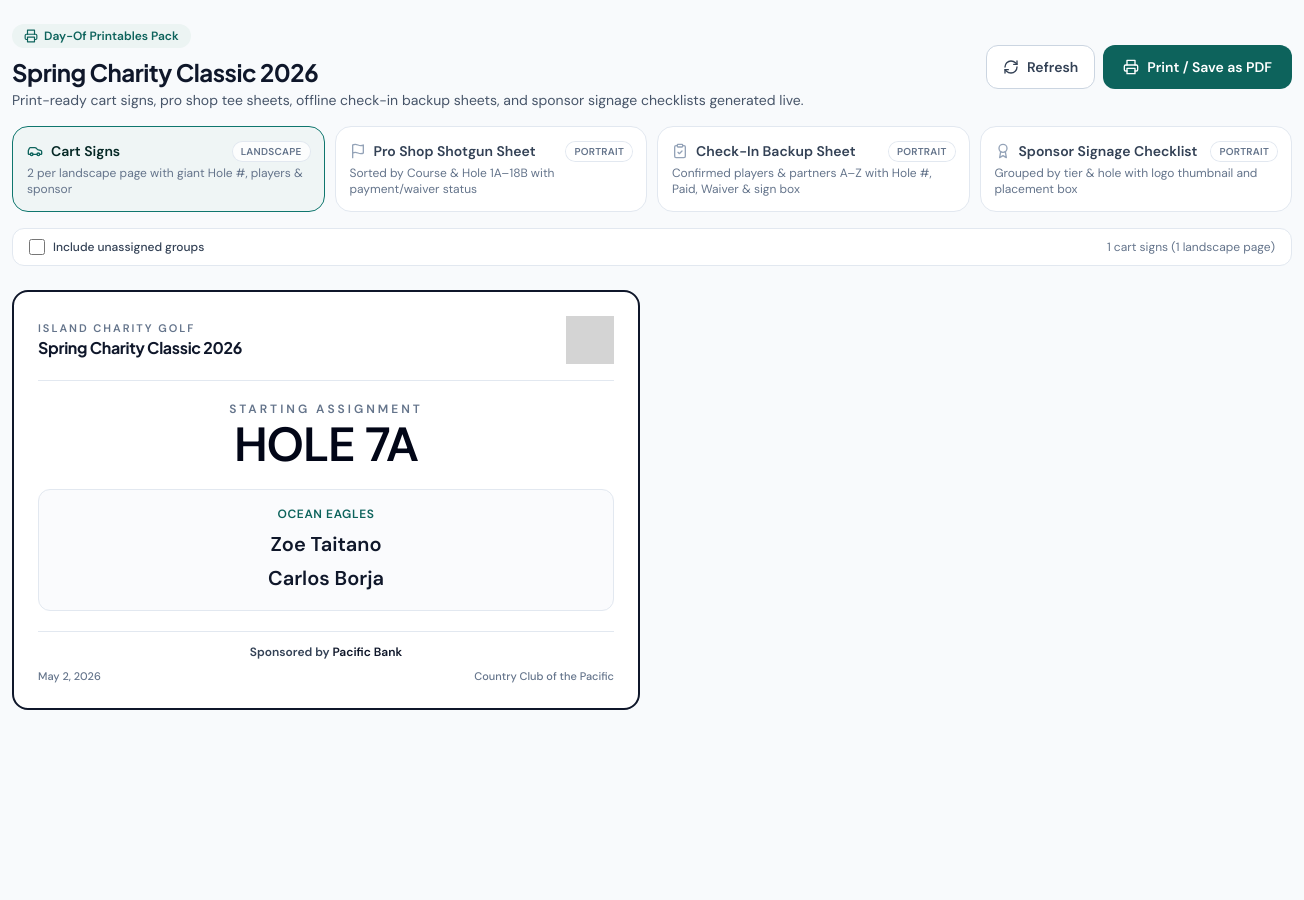
Test: PrintablesPage › fetches exact API routes, renders all 4 printable day-of sheets with accurate waiver status, and invokes window.print()
The image size is (1304, 900).
Later steps or results of the test are not shown.
Check: the element with test id "sheet-cart-signs" is shown, box [12, 290, 640, 710]
Note: Pro Shop Shotgun Sheet
Click the tab that starts with "Pro Shop Shotgun Sheet": {"x": 491, "y": 169} [334, 126, 647, 212]
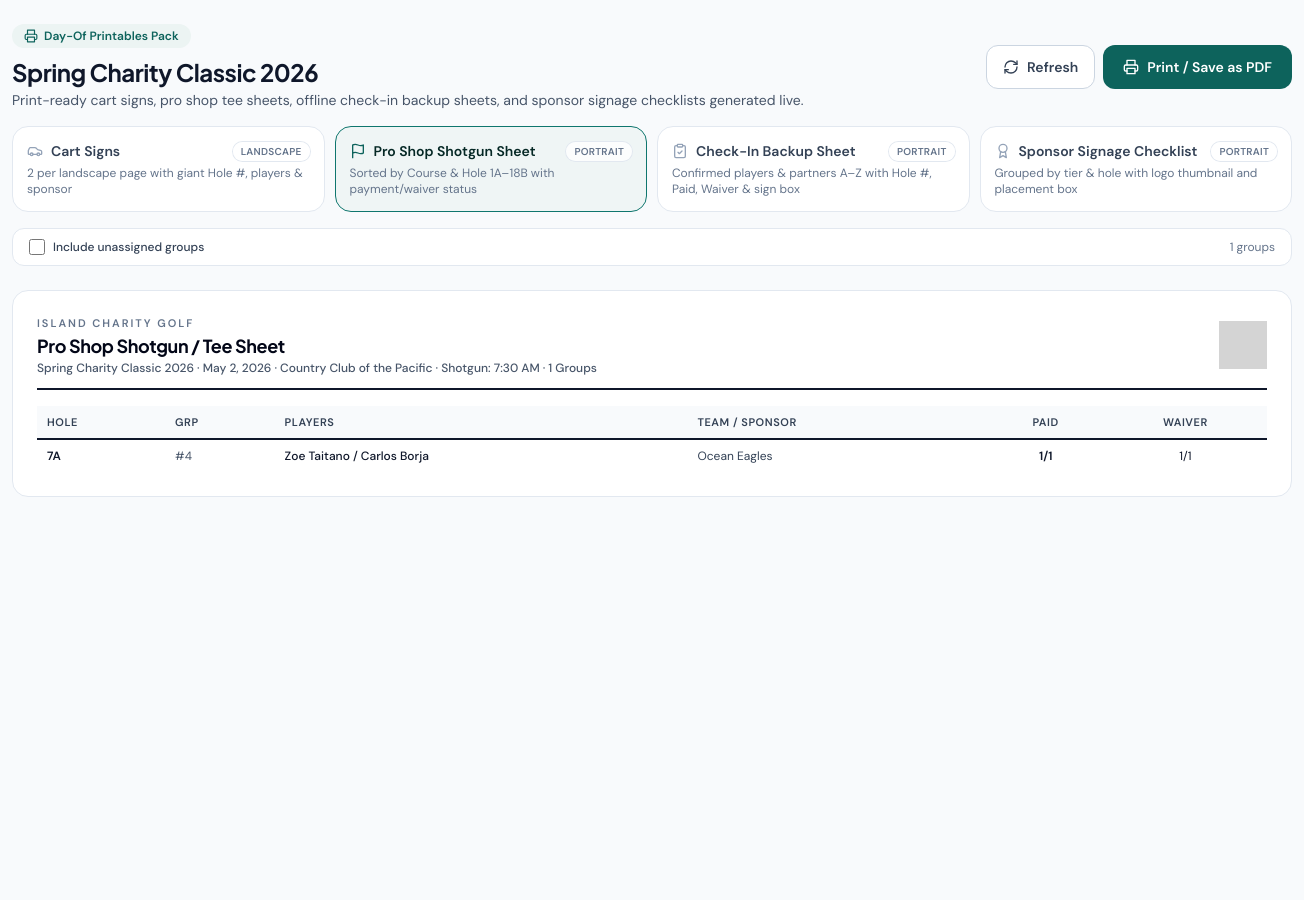
Check: the text "Ocean Eagles" is shown, box [687, 438, 988, 472]
Check: the element with test id "sheet-shotgun" is shown, box [12, 290, 1292, 496]
Click the tab that starts with "Check-In Backup Sheet": {"x": 813, "y": 169} [657, 126, 970, 212]
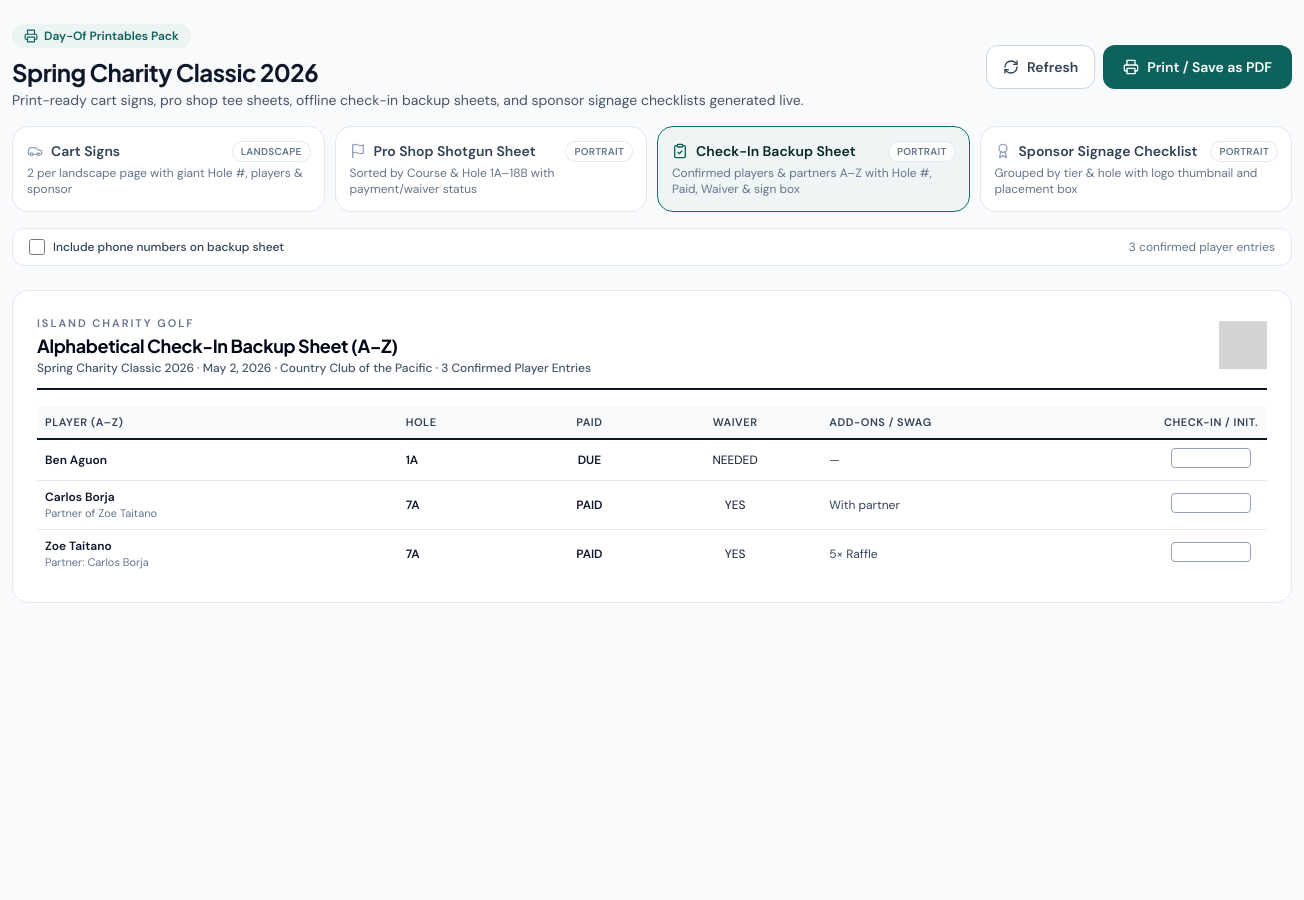
Check: the element with test id "sheet-alpha-checkin" shows "YES", box [725, 496, 746, 512]
Check: the element with test id "sheet-alpha-checkin" shows "5× Raffle", box [829, 546, 878, 562]
Note: Sponsor Signage Checklist
Click the tab that starts with "Sponsor Signage Checklist": {"x": 1136, "y": 169} [980, 126, 1292, 212]
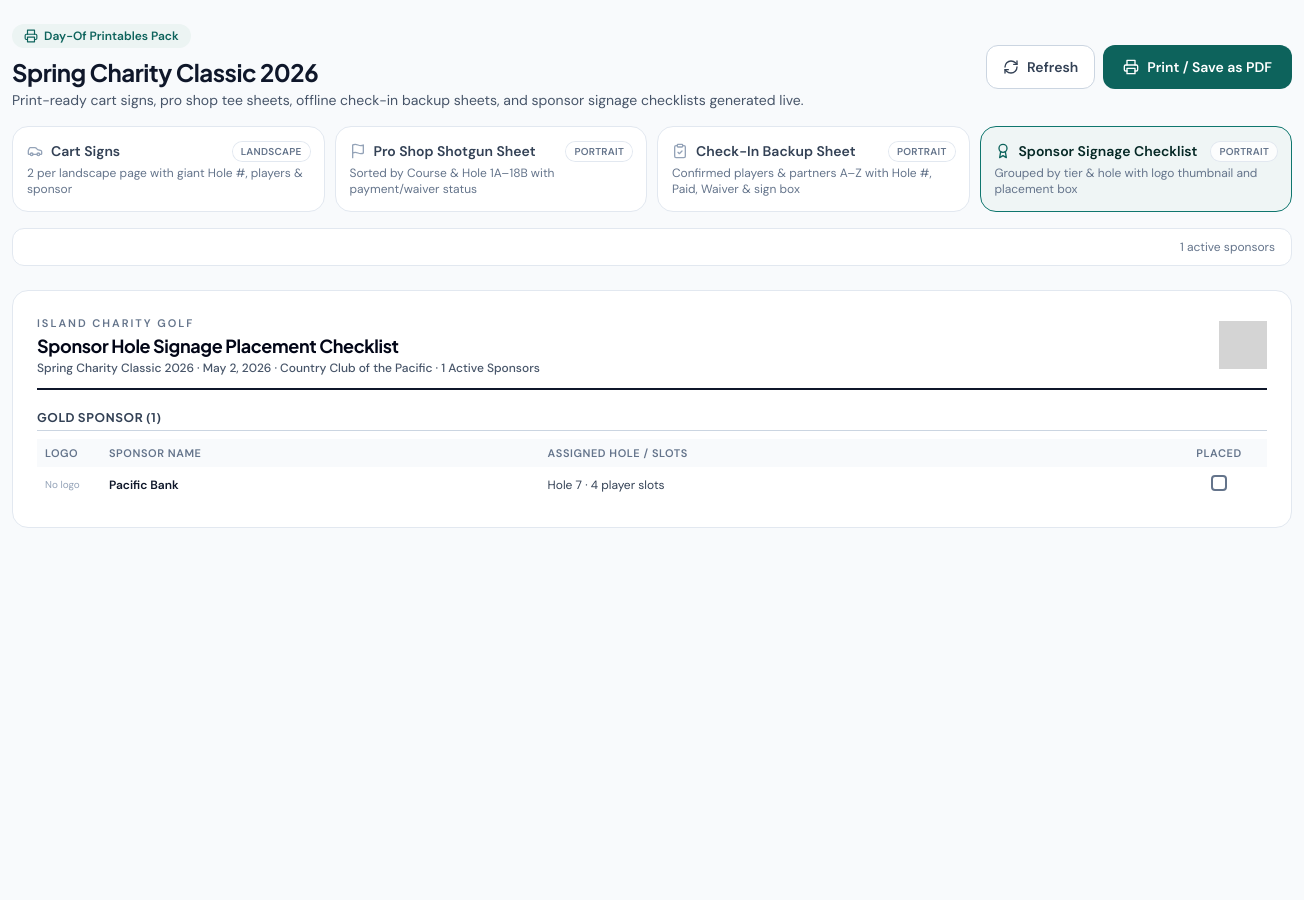
Check: the element with test id "sheet-sponsor-signage" is shown, box [12, 290, 1292, 528]
Check: the text "Pacific Bank" is shown, box [101, 466, 540, 502]
Check: the text "Hole 7" is shown, box [548, 476, 665, 492]
